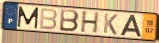A: (120, 14, 143, 38)
B: (59, 8, 80, 33), (39, 7, 59, 31)
H: (80, 10, 101, 35)
K: (103, 12, 119, 36)
M: (17, 5, 40, 29)
